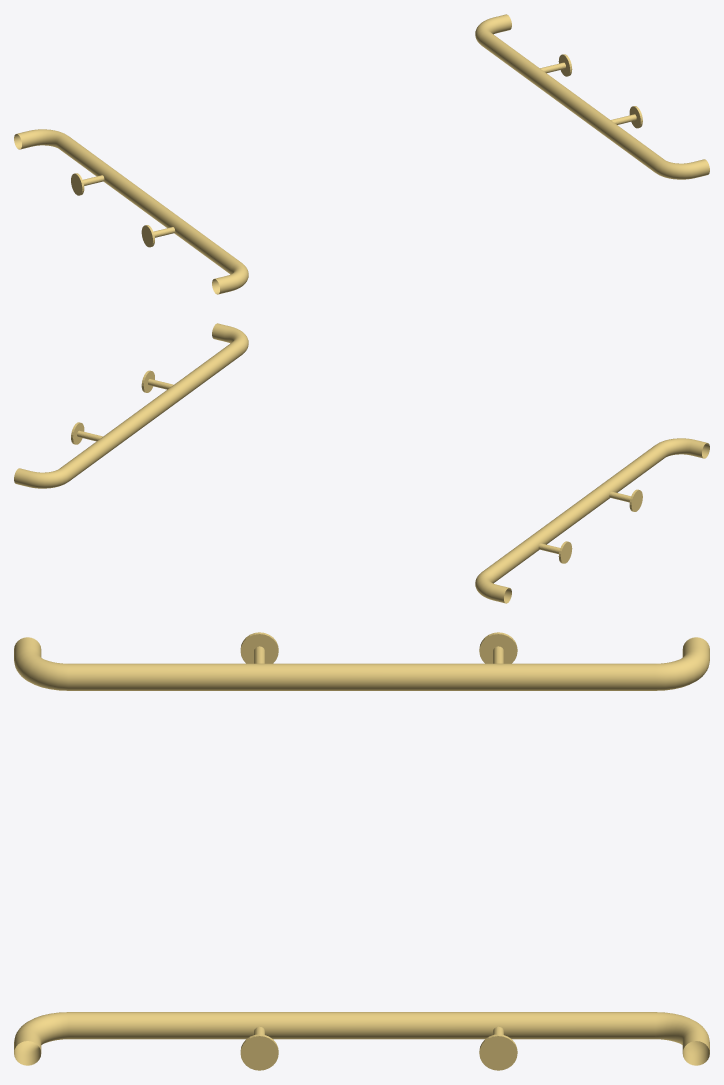
The model's file is handrail_FS002.glb.
The picture shows the model from 3 angles, top to bottom: view 1: azimuth 30°, elevation 25°; view 2: azimuth 150°, elevation 25°; view 3: azimuth 270°, elevation 25°; orthographic projection. The views are drawn at different scales.
Visible parts, largest first — view 1: Handrail_R, Handrail_L; view 2: Handrail_R, Handrail_L; view 3: Handrail_L, Handrail_R, Handrail_R_Rosette_2, Handrail_R_Rosette_1, Handrail_L_Rosette_1, Handrail_L_Rosette_2.
Boxes of the visible parts, x1=… form: Handrail_R: x1=475, y1=14, x2=709, y2=179; Handrail_L: x1=14, y1=129, x2=248, y2=294; Handrail_R: x1=14, y1=323, x2=248, y2=488; Handrail_L: x1=475, y1=438, x2=709, y2=603; Handrail_L: x1=14, y1=637, x2=709, y2=690; Handrail_R: x1=14, y1=1012, x2=709, y2=1065; Handrail_R_Rosette_2: x1=479, y1=1034, x2=517, y2=1070; Handrail_R_Rosette_1: x1=240, y1=1034, x2=278, y2=1070; Handrail_L_Rosette_1: x1=240, y1=632, x2=278, y2=663; Handrail_L_Rosette_2: x1=479, y1=632, x2=517, y2=663.
Bounding box in the file's own units: 1.4 × 0.056 × 1.02.
